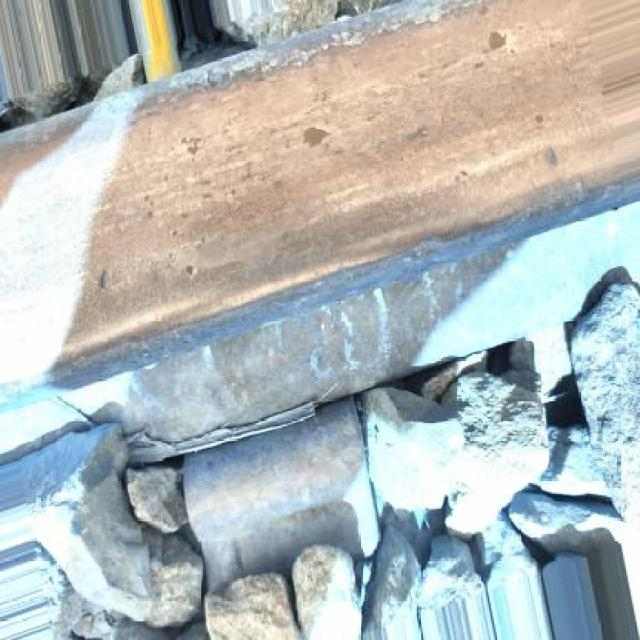non-defective: (4, 9, 640, 508)
